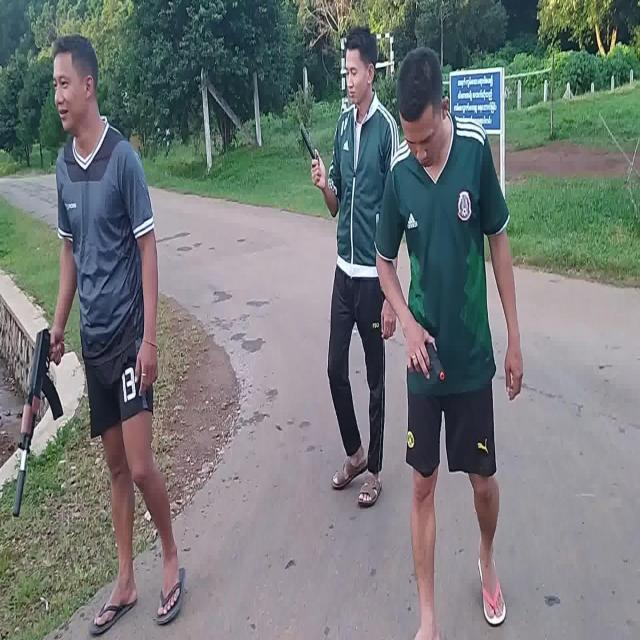gun: (14, 329, 65, 515), (425, 341, 445, 381)
